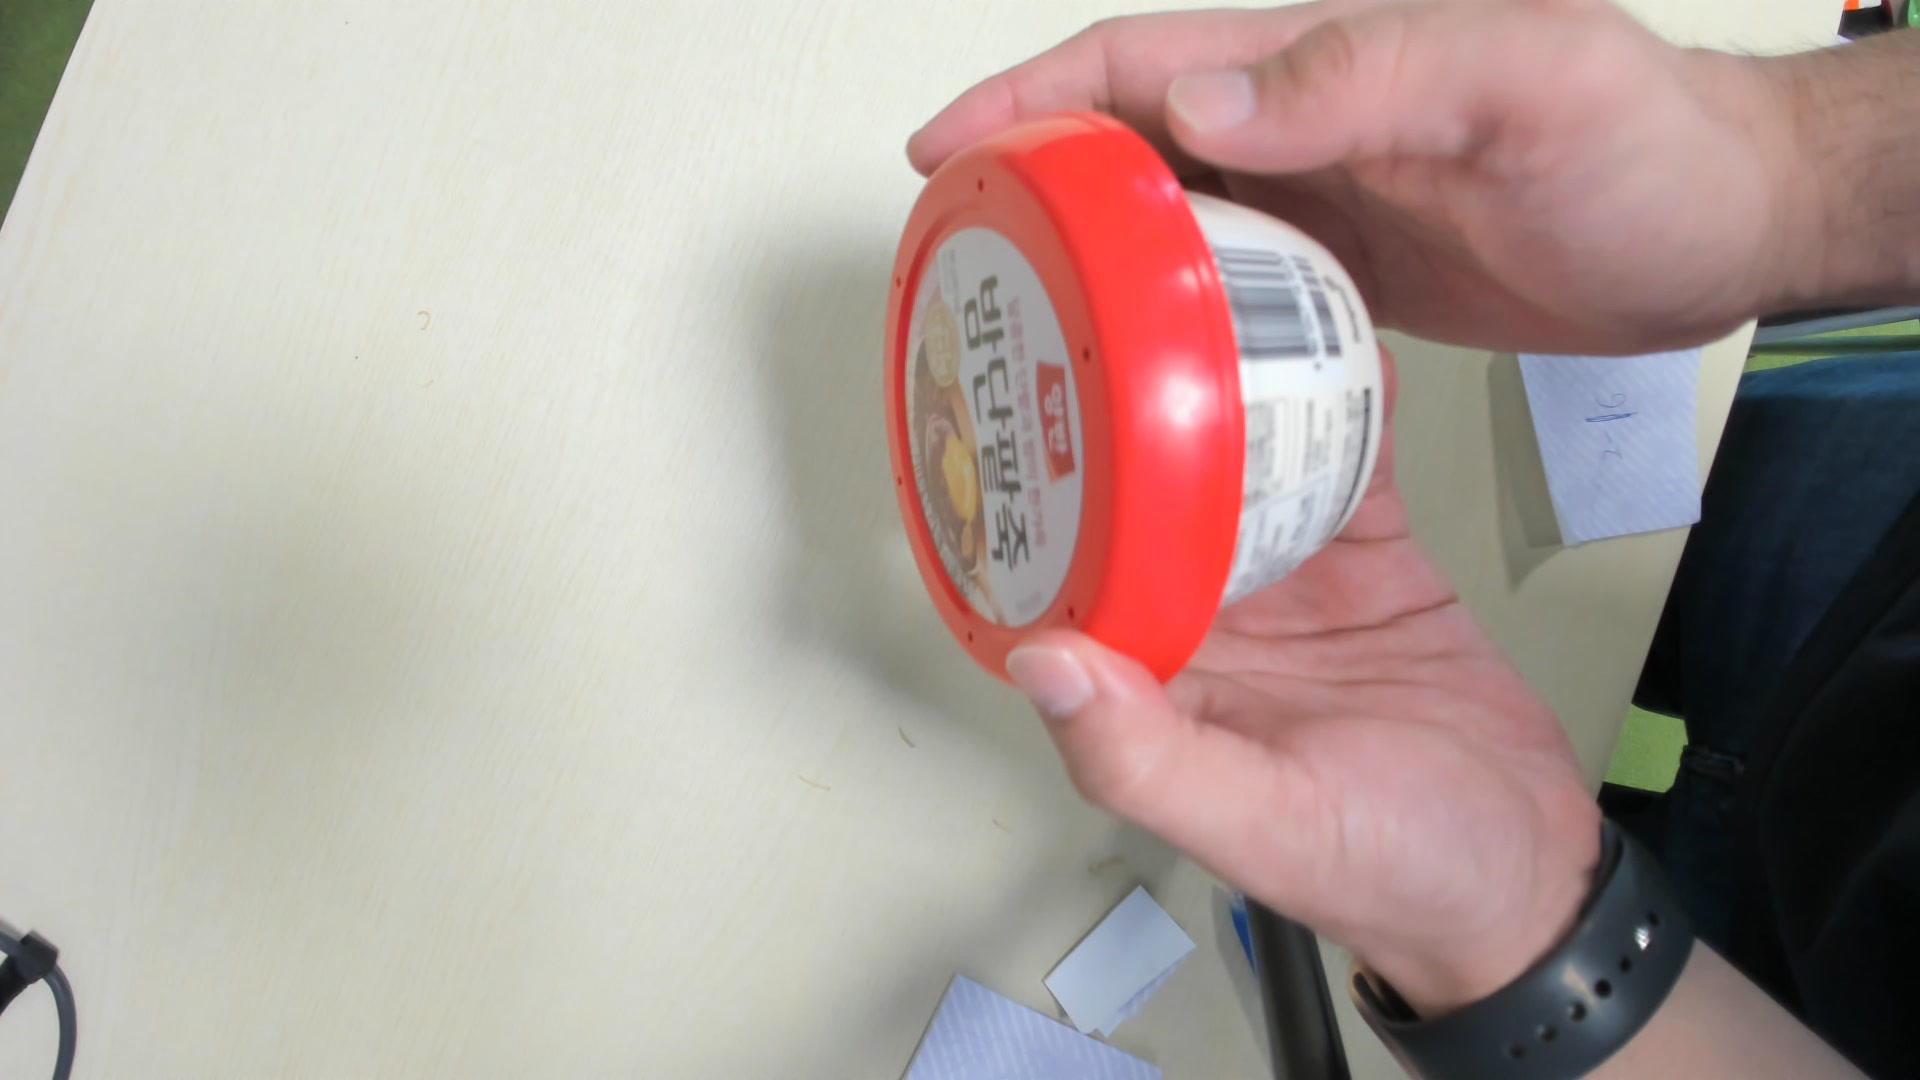InstantMeals_200_299g_NonHalal_NonHealthy: (889, 113, 1387, 680)
